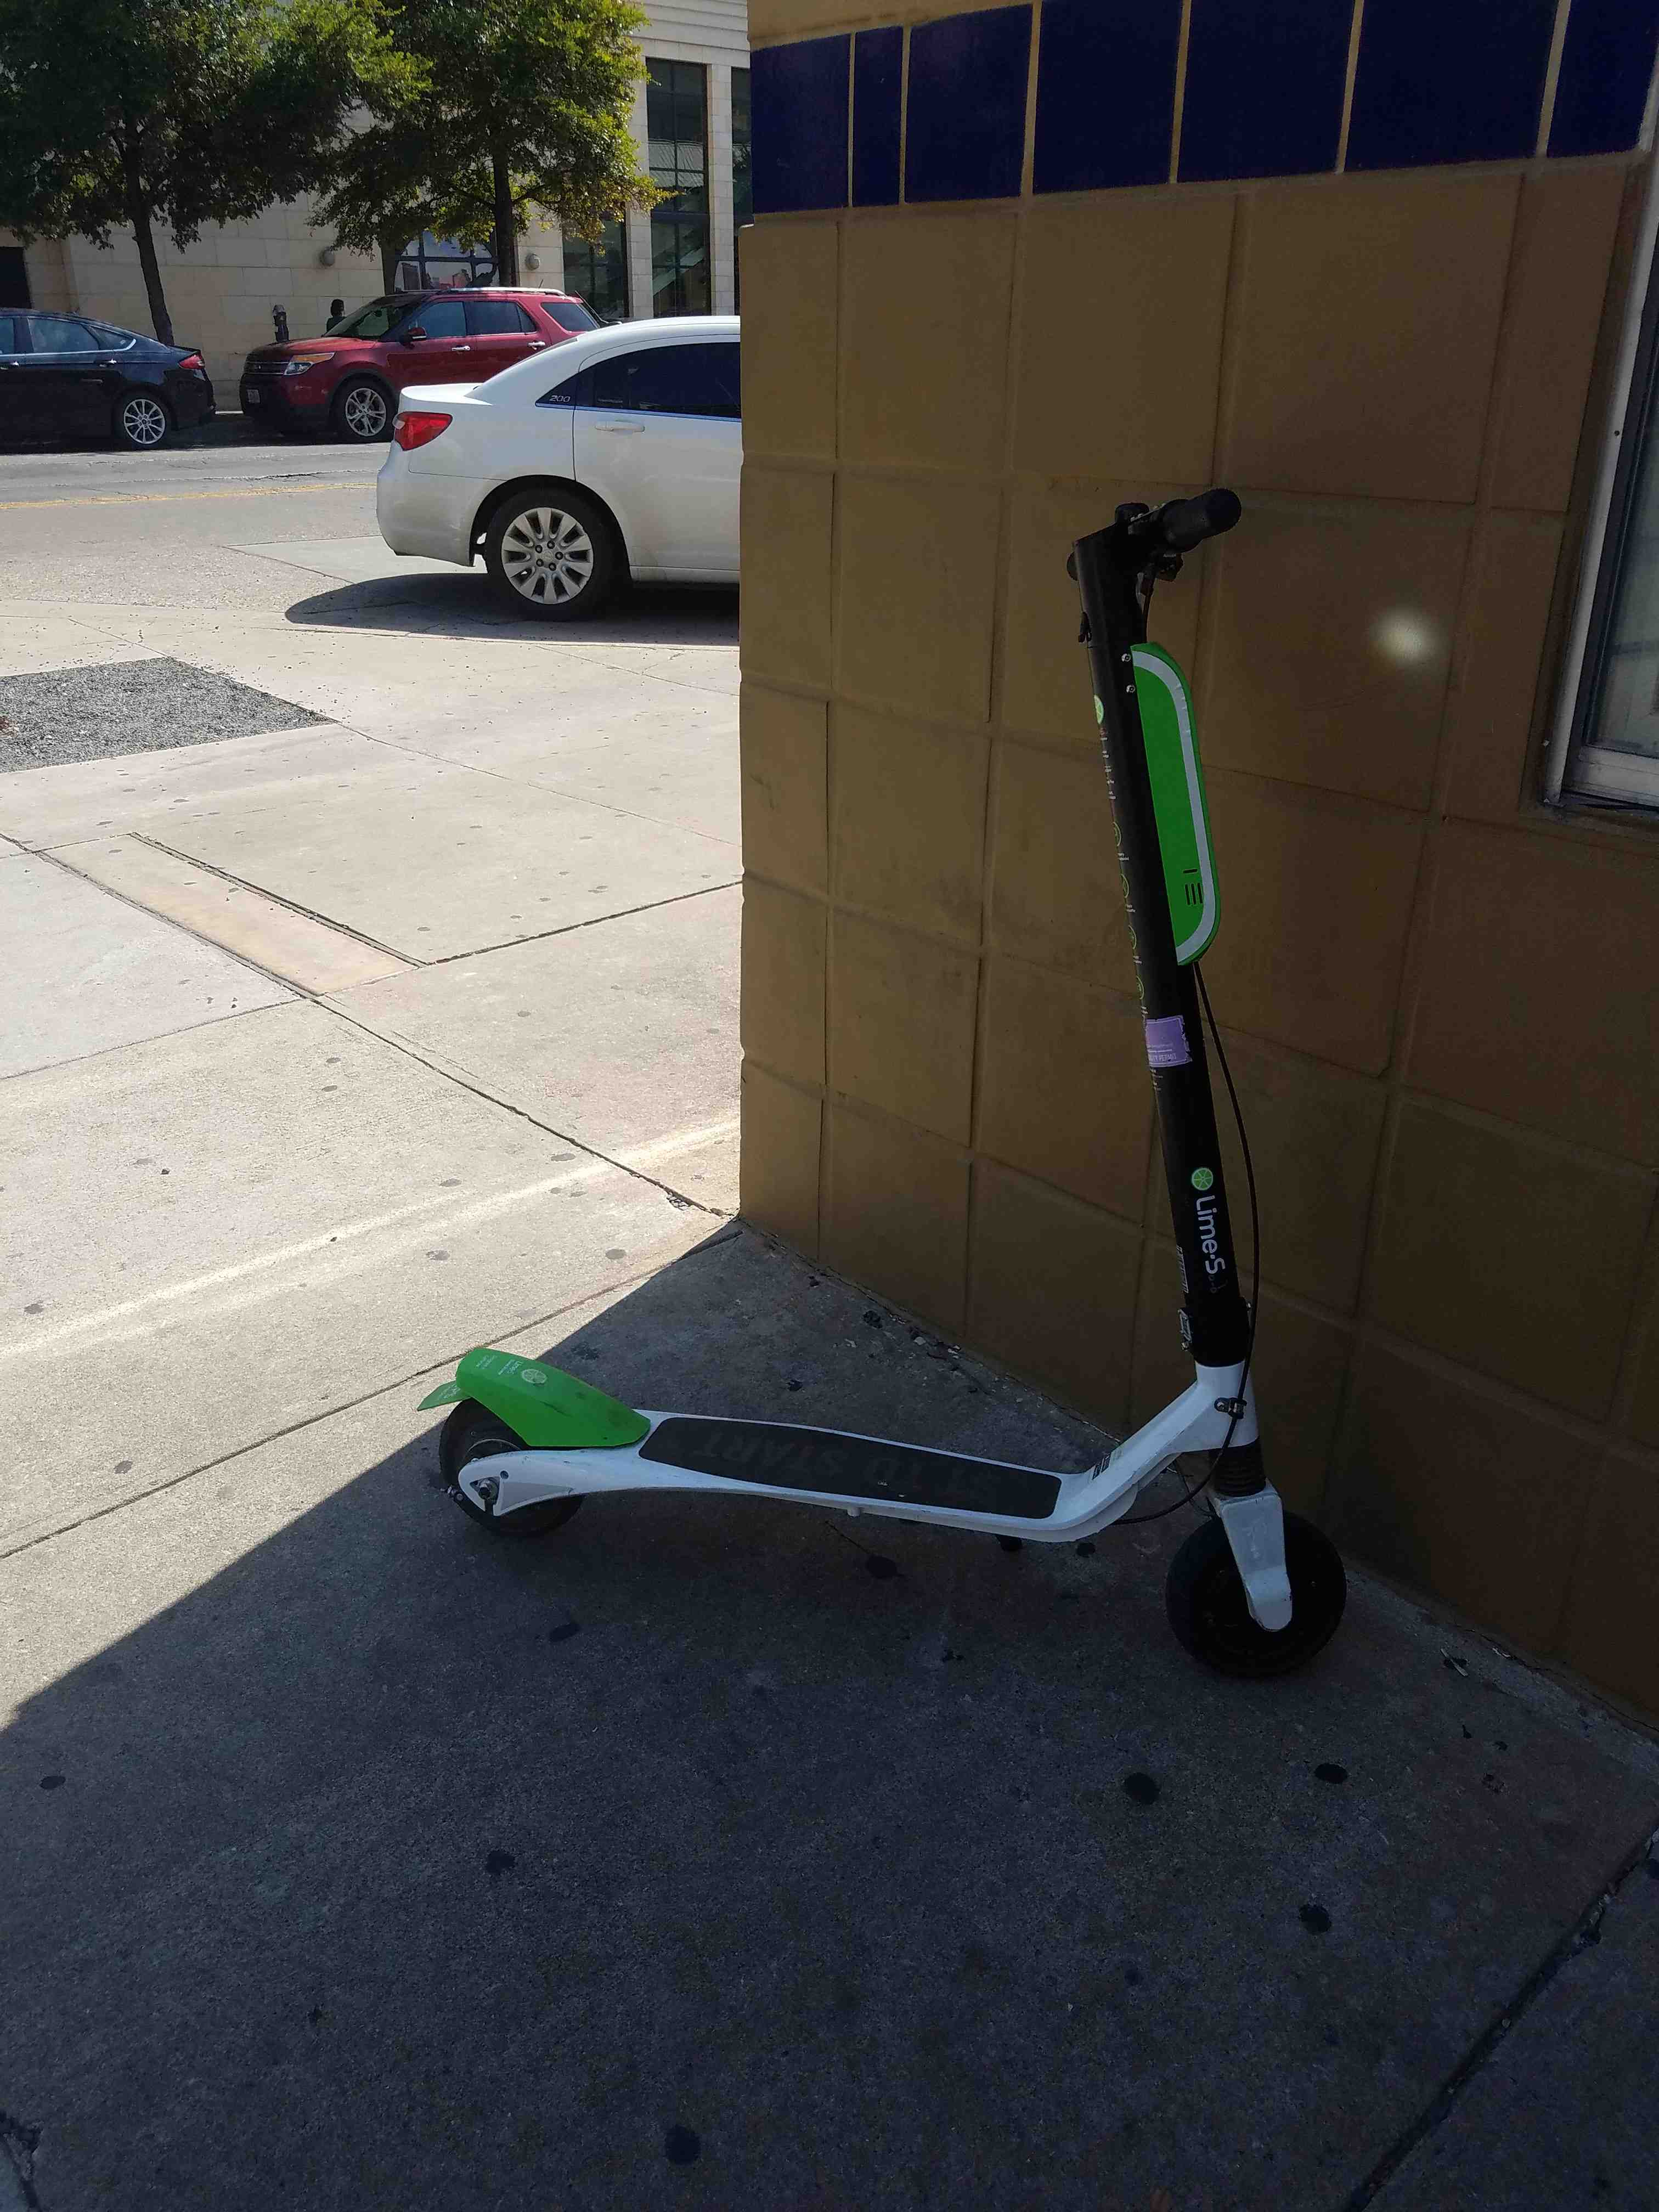scooter: (376, 425, 1403, 1698)
